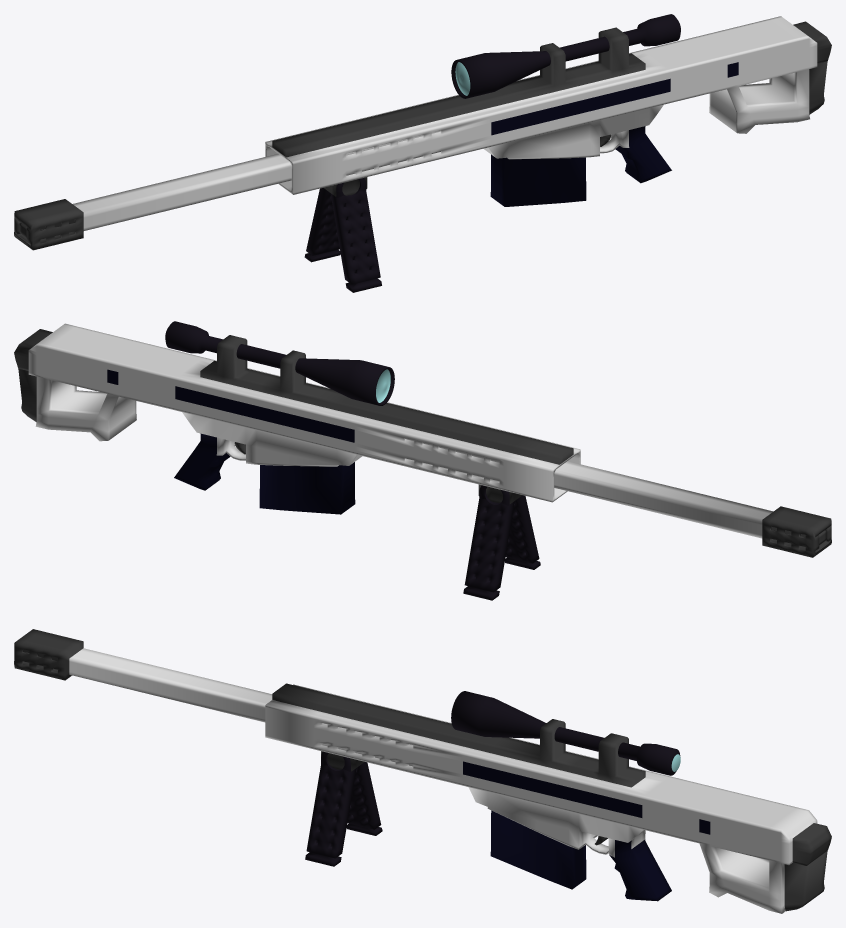
Rendered from arsenal.fbx.
The picture shows the model from 3 angles, top to bottom: view 1: azimuth 30°, elevation 25°; view 2: azimuth 150°, elevation 25°; view 3: azimuth 330°, elevation 25°; orthographic projection.
Visible parts, largest first — view 1: Plano; view 2: Plano; view 3: Plano.
Part boxes in pixels (x1,y1,x2,y2): Plano: (14,14,831,292); Plano: (14,321,831,600); Plano: (14,629,831,913).
Size of the model in its own units: 491 by 107 by 51.7.
